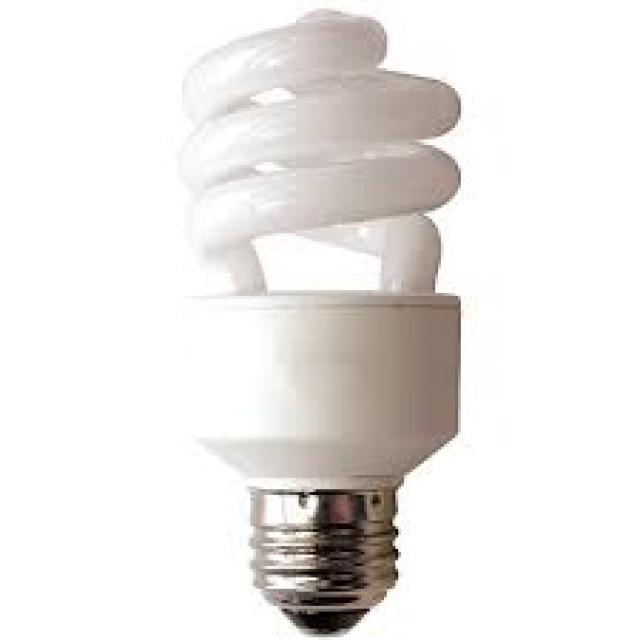Hazard: (143, 0, 508, 605)
